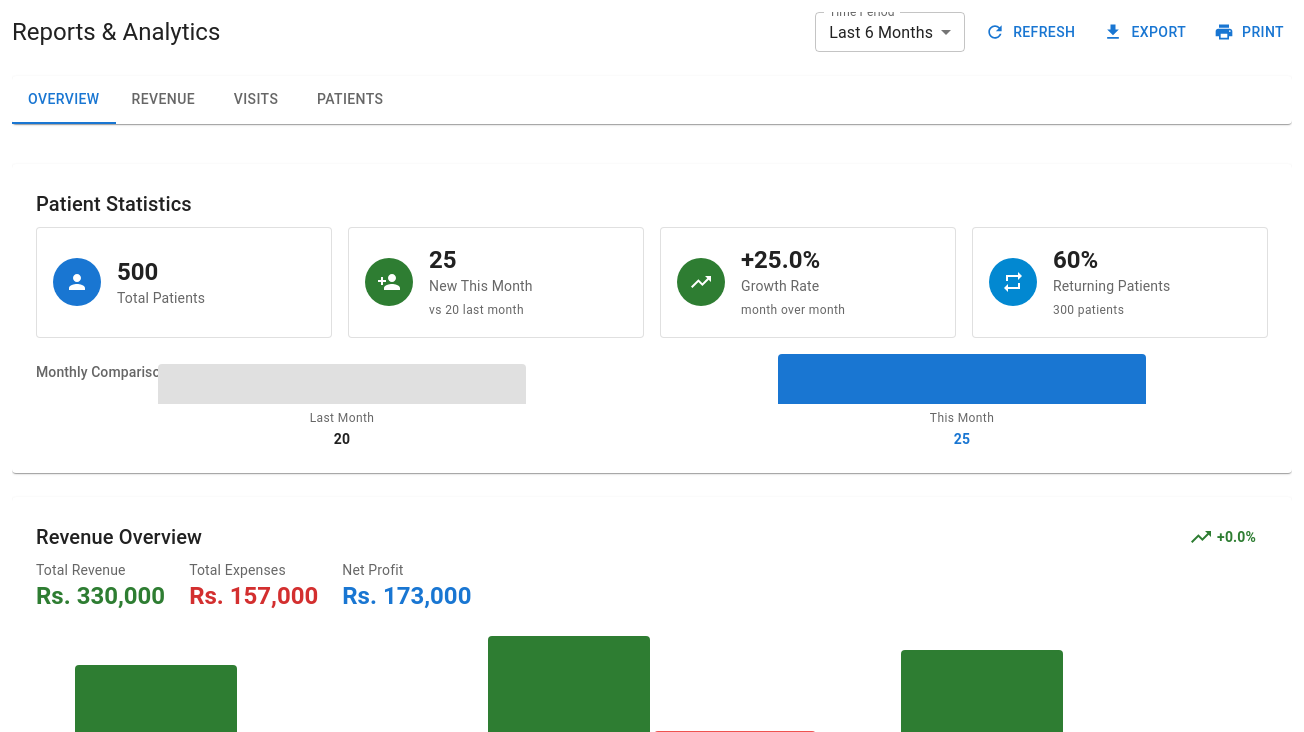
Test case: Reports › Tab navigation › switches to Visits tab when clicked
The image size is (1304, 732).
Expected: the heading "Reports & Analytics" is shown, top-left (12, 16), bottom-right (220, 48)
What coordinates should you click on to do the following:
click the tab "Visits"
I would click on:
 (256, 100)
Its box is top-left (211, 76), bottom-right (301, 124).
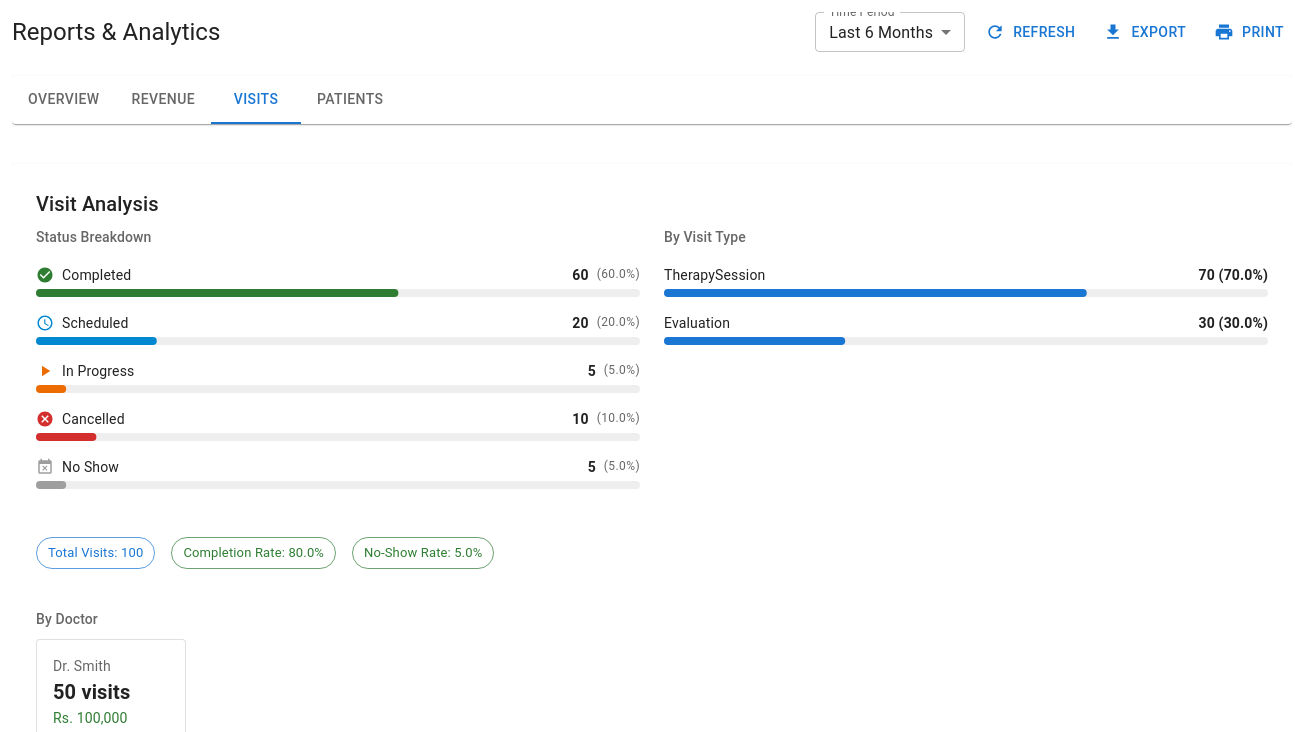
Expected: the heading "Visit Analysis" is shown, top-left (36, 192), bottom-right (159, 216)
